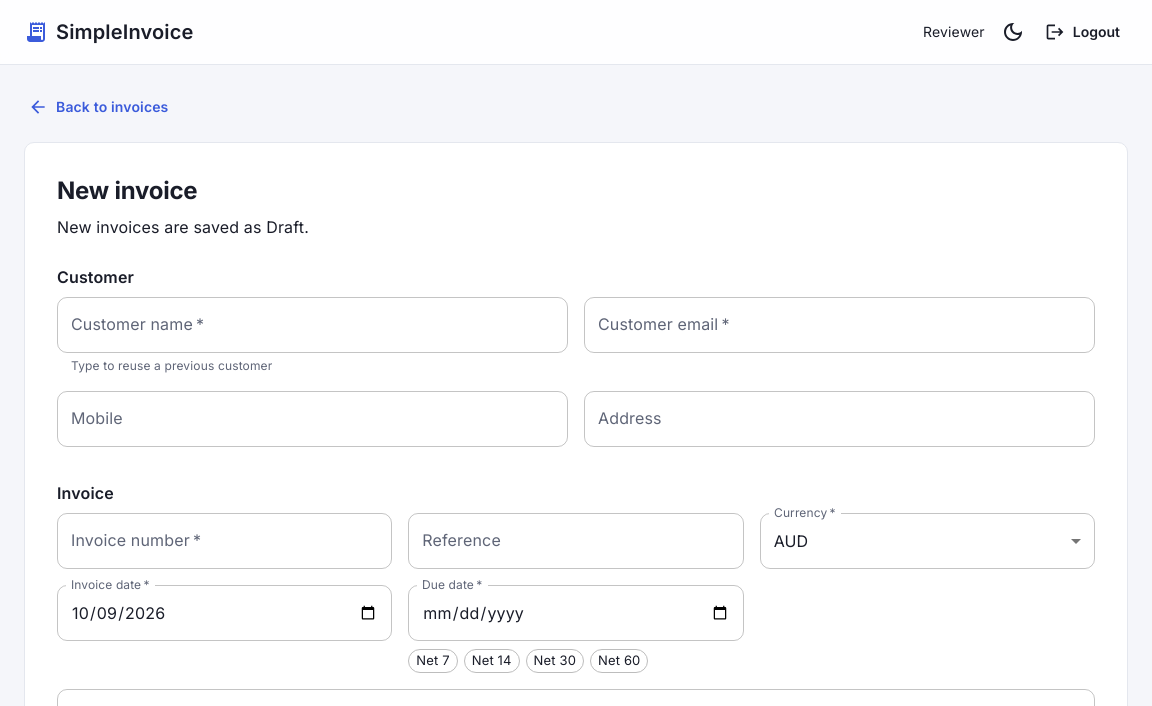
Test: Invoice form extras › sets the due date from payment terms
Check: the heading "New invoice" is shown, box left=57, top=176, right=197, bottom=204
Step 1. Type "2026-10-01" into the date field labelled "Invoice date *" → (225, 613), box left=57, top=585, right=392, bottom=641
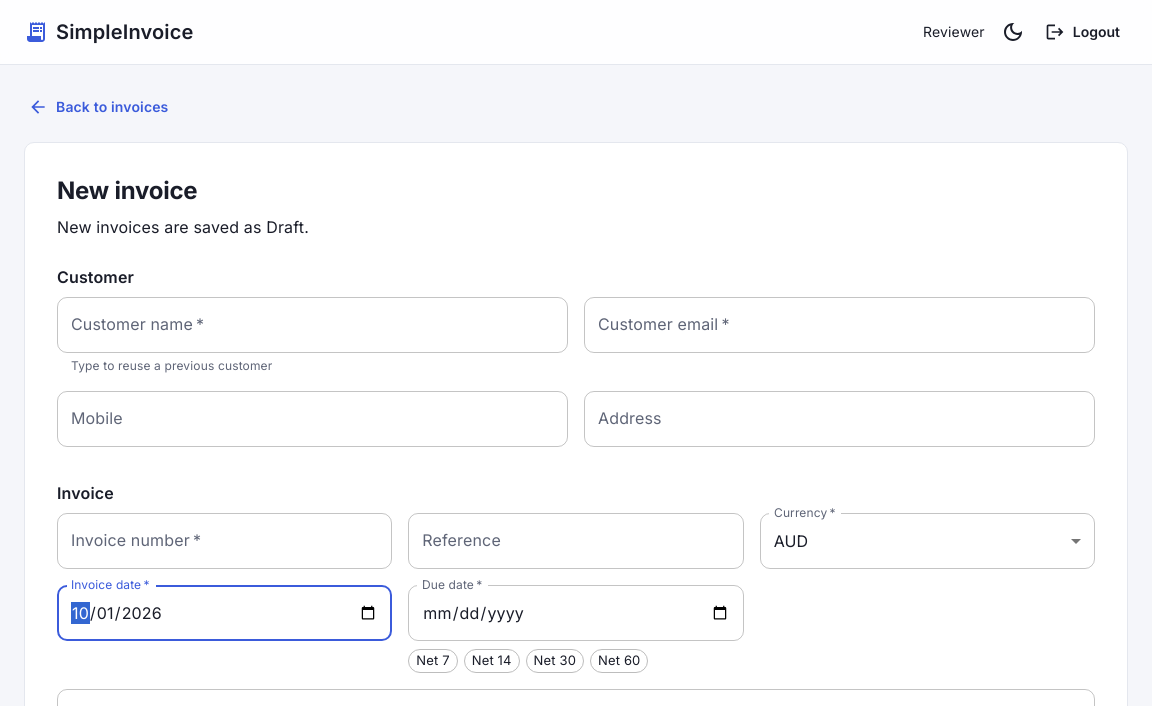
Step 2. Click the button "Net 30" → (555, 661), box left=526, top=649, right=584, bottom=673
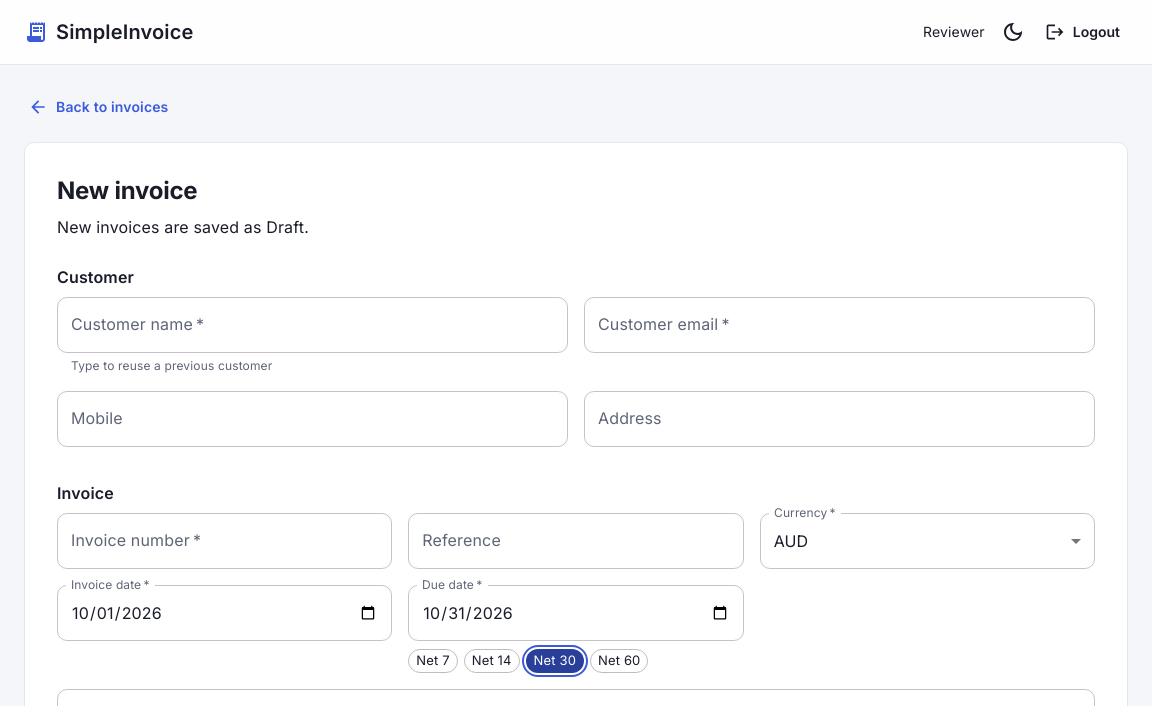
Check: the date field labelled "Due date *" holds "2026-10-31", box left=408, top=585, right=744, bottom=641
